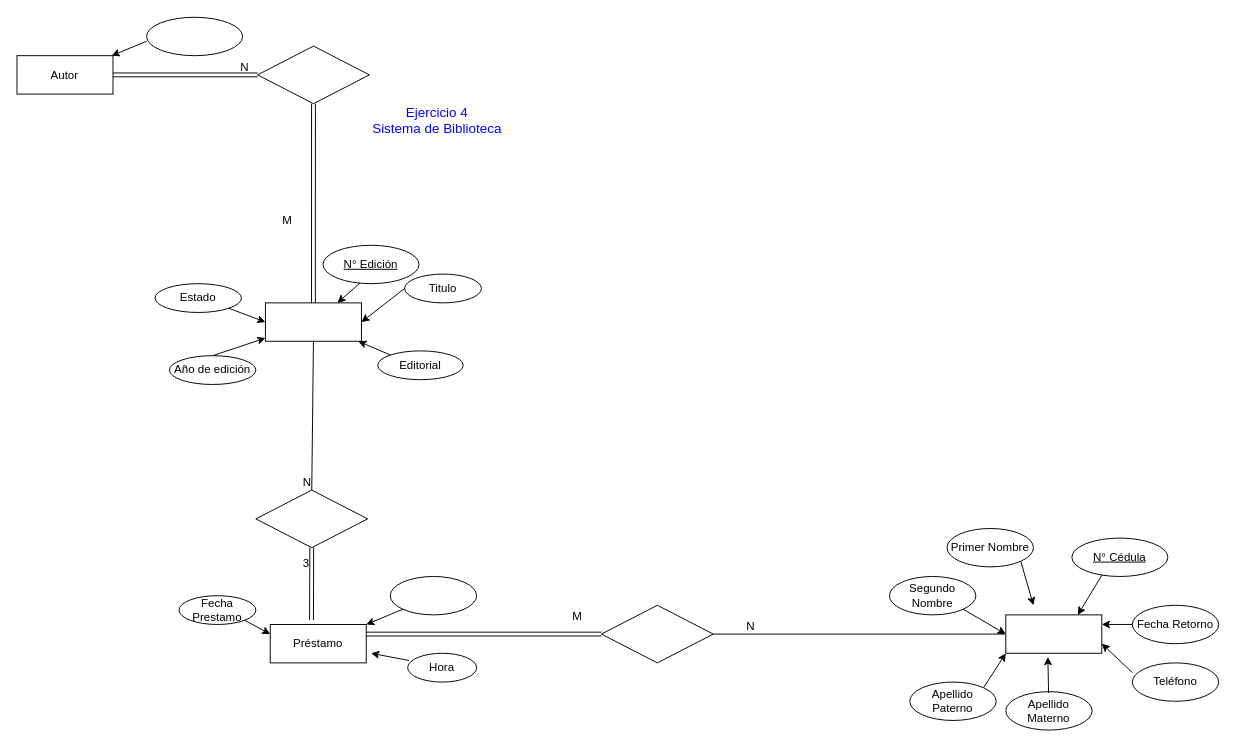
The diagram is 1236 pixels wide and 747 high, and some of its shapes have lost their labels. Here are the shapes that lost their labels. From the top down, the centre of each, then its label:
(x=194, y=36): Nombre
(x=313, y=74): Tiene
(x=312, y=321): Libro
(x=311, y=518): Realizan
(x=433, y=595): Responsable
(x=656, y=633): Solicita
(x=1053, y=633): Lector
